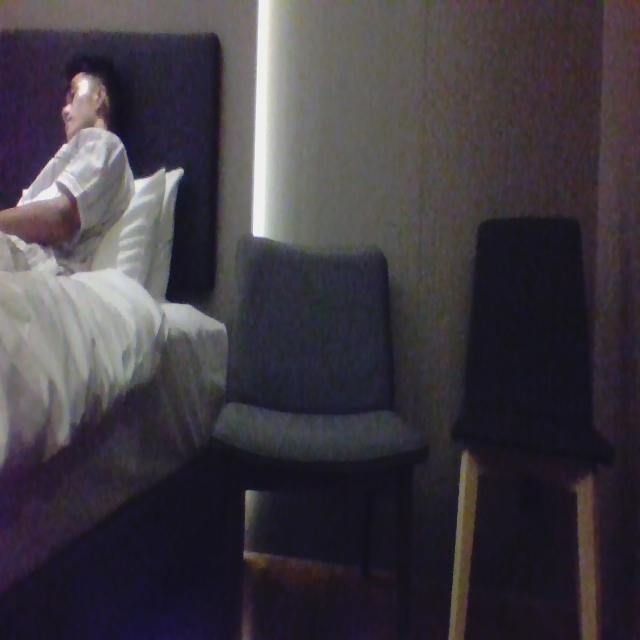empty: (230, 224, 406, 442), (454, 230, 604, 459)
